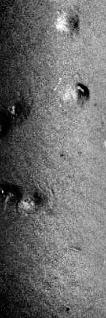cell: (47, 1, 92, 48), (62, 72, 102, 120), (50, 3, 89, 42), (64, 75, 101, 114), (49, 2, 84, 38), (20, 182, 54, 218), (4, 91, 35, 129), (68, 77, 99, 112), (54, 7, 84, 41), (53, 4, 83, 37), (23, 184, 53, 216), (69, 79, 97, 111), (71, 79, 95, 112), (25, 187, 51, 214), (24, 185, 50, 212), (1, 179, 19, 217), (1, 179, 21, 213), (8, 95, 32, 122), (1, 181, 22, 211), (1, 182, 20, 215), (26, 188, 49, 213), (74, 81, 93, 111), (8, 96, 28, 120), (10, 100, 27, 118)
